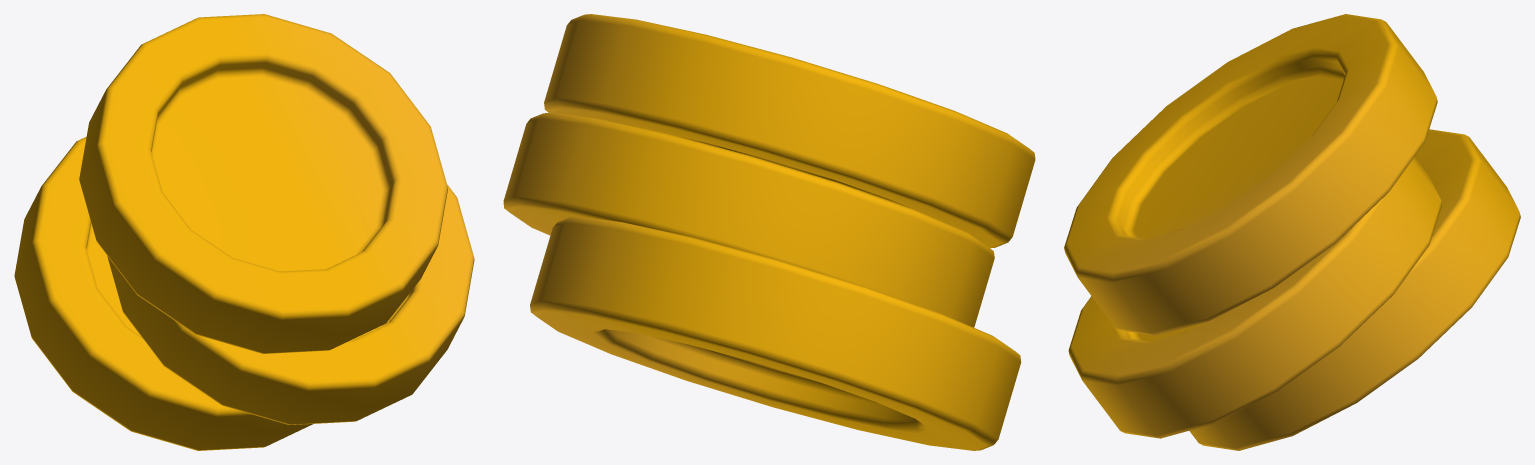
3 views of the same model, side by side, from view 1: azimuth 30°, elevation 25°; view 2: azimuth 150°, elevation 25°; view 3: azimuth 270°, elevation 25° (orthographic). The views are drawn at different scales.
Visible parts, largest first — view 1: model_1.096; view 2: model_1.096; view 3: model_1.096.
Boxes of the visible parts, x1,y1,x2,y2 form: model_1.096: (14,14,474,450); model_1.096: (503,14,1035,450); model_1.096: (1064,14,1520,450).
Size of the model in its own units: 3.7 by 3.37 by 3.56.
